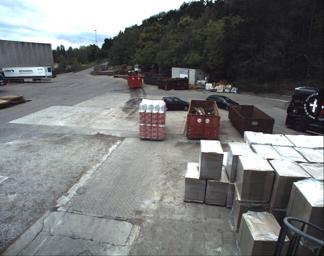rockwool_batts: (138, 98, 165, 139)
